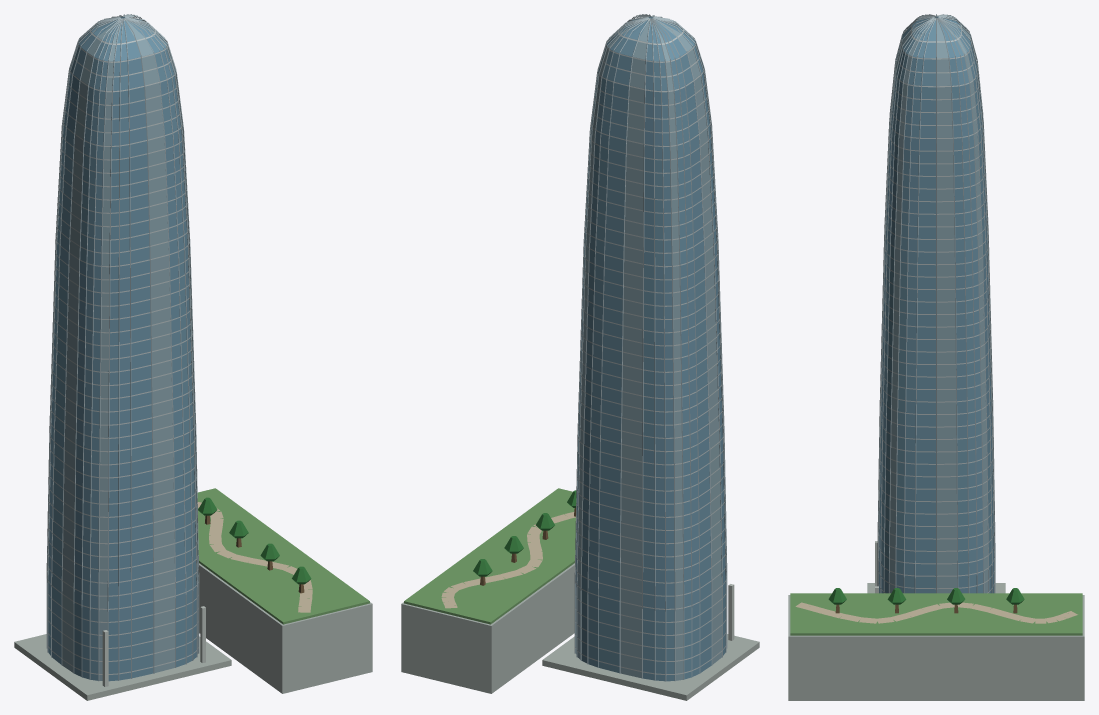
File: salesforce.glb
The picture shows the model from 3 angles, left to right: view 1: azimuth 30°, elevation 25°; view 2: azimuth 150°, elevation 25°; view 3: azimuth 270°, elevation 25°; orthographic projection. The views are drawn at different scales.
Parts seen in each view (by area): view 1: salesforce-rounded-glass-sunshades; view 2: salesforce-rounded-glass-sunshades; view 3: salesforce-rounded-glass-sunshades.
Boxes of the visible parts, <box> form: salesforce-rounded-glass-sunshades: <box>14,14,372,700</box>; salesforce-rounded-glass-sunshades: <box>401,14,759,700</box>; salesforce-rounded-glass-sunshades: <box>788,14,1084,700</box>.
Bounding box in the file's own units: 13.5 × 33.82 × 15.
